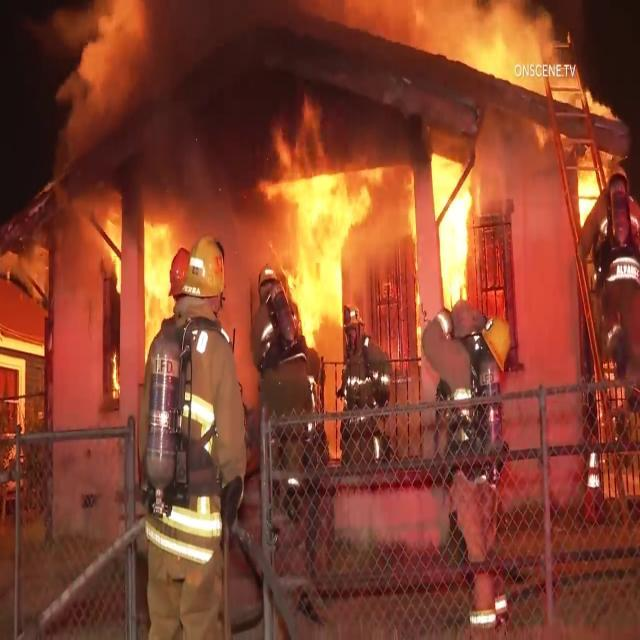Fire: (279, 155, 349, 360), (434, 157, 471, 306), (150, 222, 172, 332)
Smoke: (112, 0, 442, 119)
